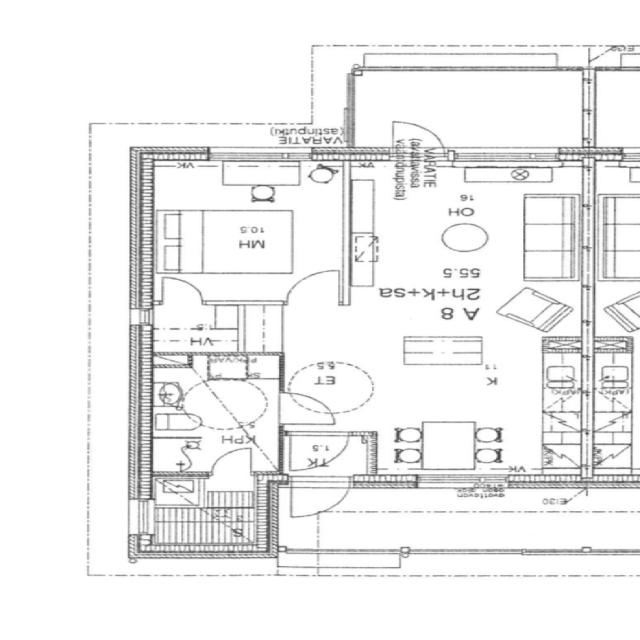door: (279, 431, 365, 477), (283, 474, 355, 519), (280, 267, 346, 310), (384, 116, 448, 154), (152, 273, 212, 308), (281, 388, 342, 420), (204, 445, 258, 478)
window: (448, 146, 569, 169), (572, 72, 604, 144), (402, 544, 522, 562), (205, 146, 312, 164), (411, 473, 496, 494), (123, 496, 155, 540), (131, 305, 156, 329)
zone: (146, 155, 349, 307), (363, 159, 589, 288), (359, 68, 591, 148), (142, 358, 279, 475), (142, 472, 271, 552), (140, 304, 284, 355), (592, 188, 640, 284), (279, 432, 364, 476)
